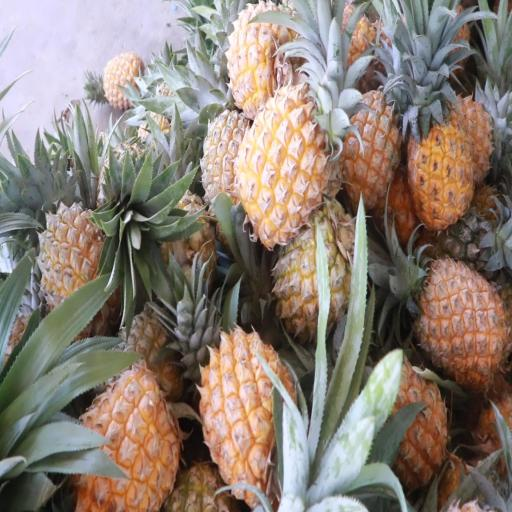------------------------------: (270, 212, 354, 342)
Pineapple - v8 v1: (202, 335, 296, 496), (72, 382, 182, 512), (241, 91, 327, 240), (364, 361, 446, 487), (414, 259, 503, 375), (337, 86, 402, 208), (407, 110, 472, 225), (230, 9, 293, 105)
